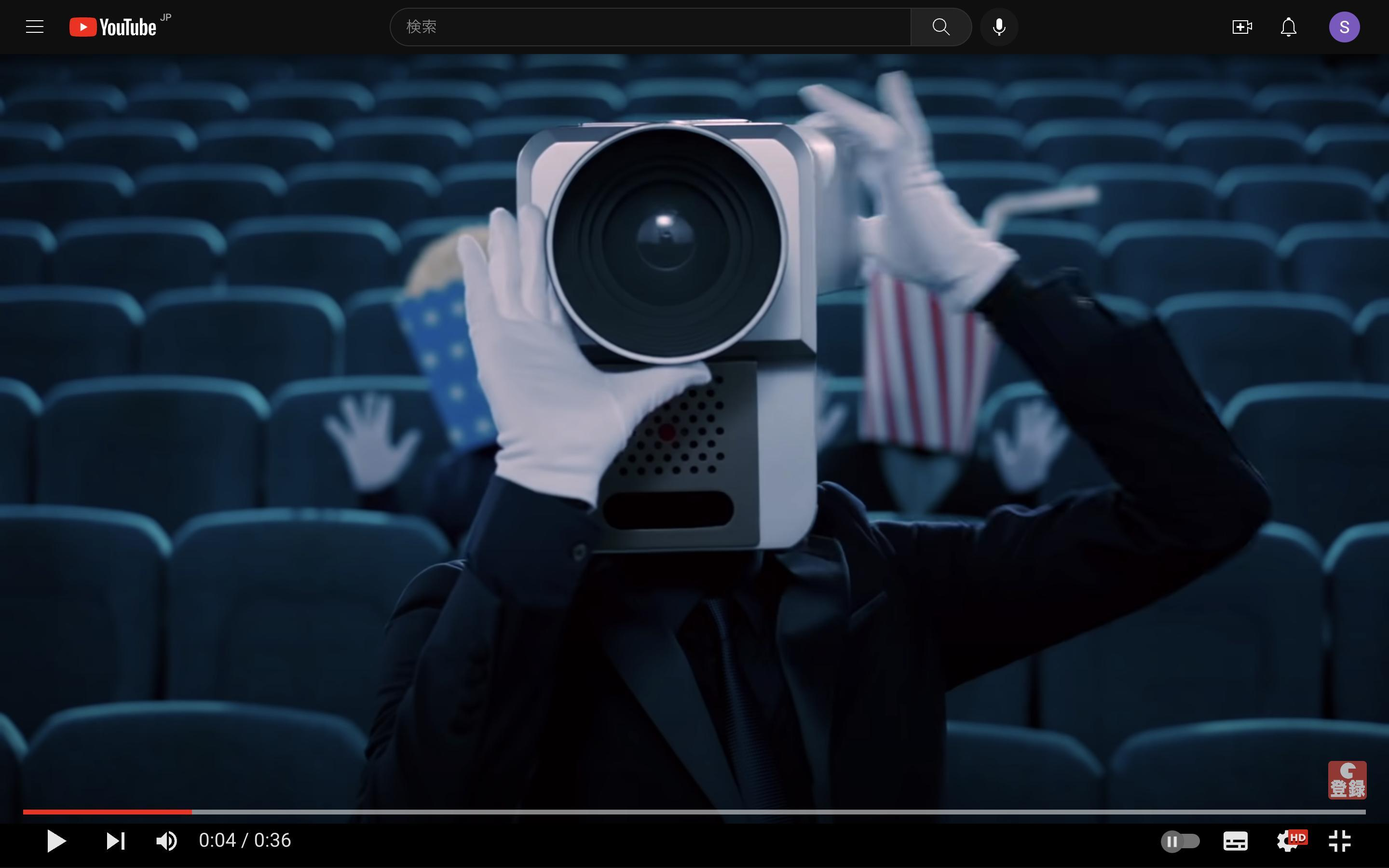no more kid: (490, 101, 957, 568)
